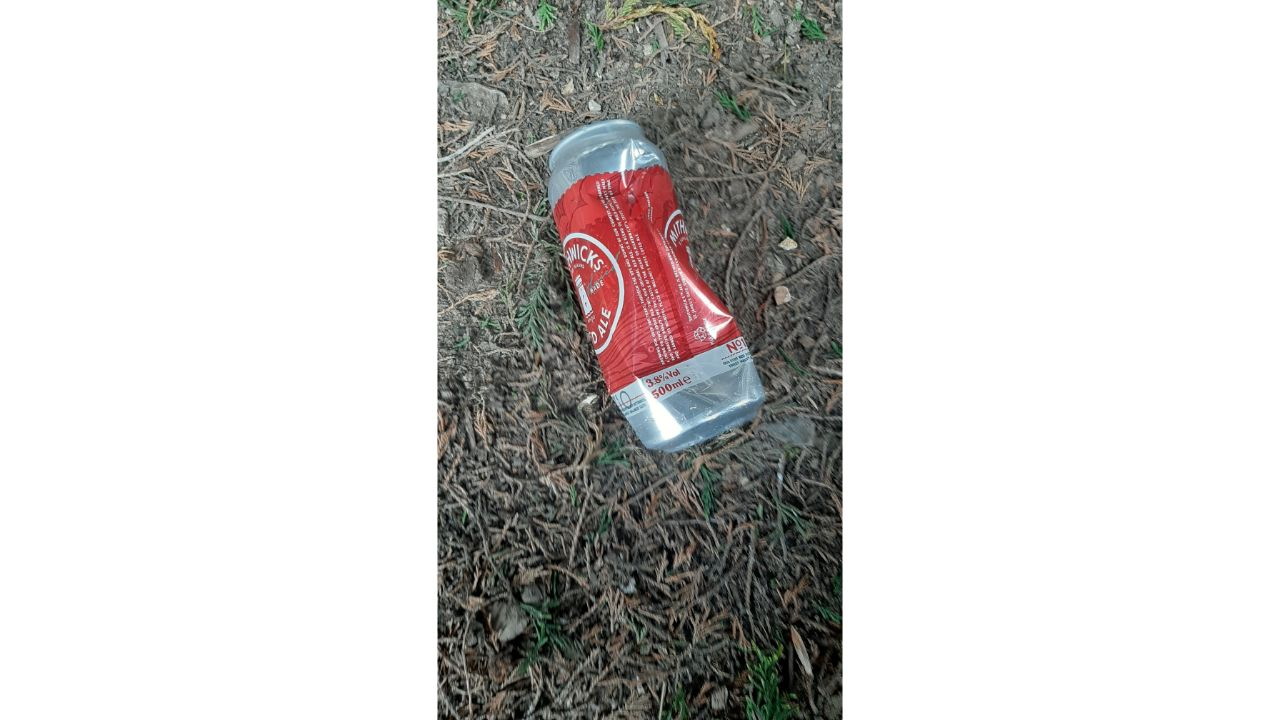Can: (544, 122, 769, 461)
